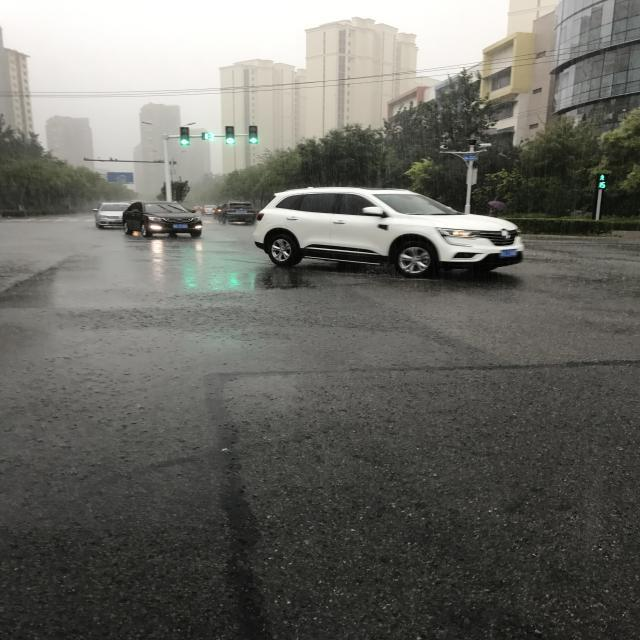car: (184, 115, 277, 388), (202, 429, 236, 517), (202, 374, 226, 423), (202, 508, 231, 548), (202, 420, 216, 437)
